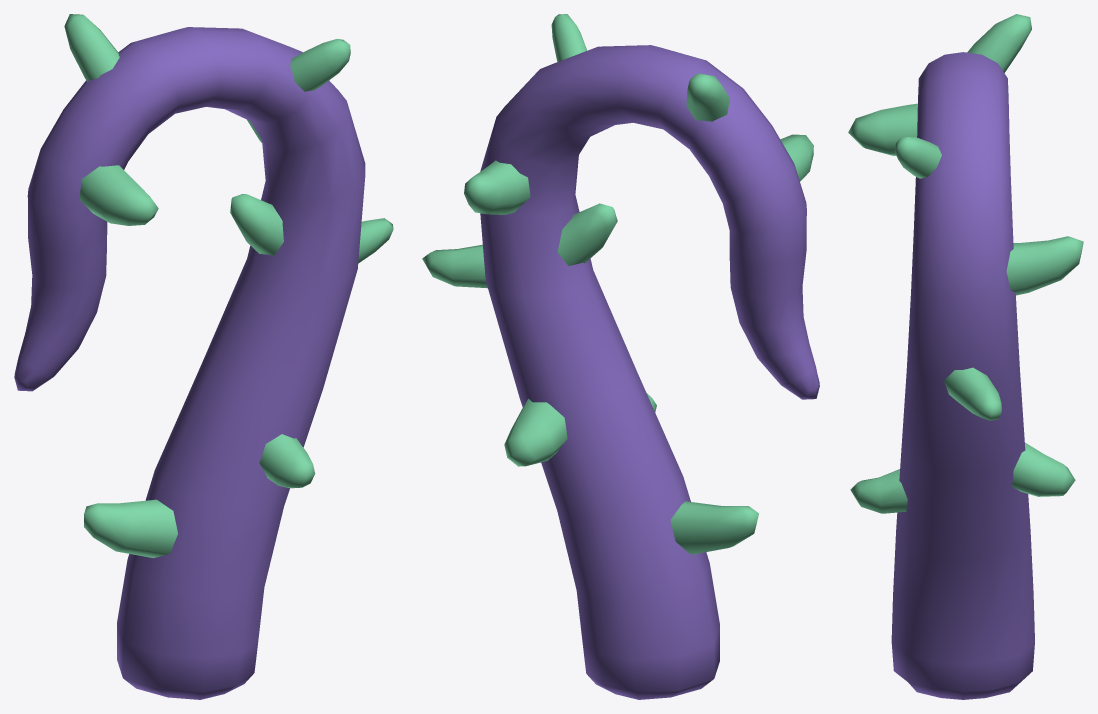
File: Vine_A_01.fbx
The picture shows the model from 3 angles, left to right: view 1: azimuth 30°, elevation 25°; view 2: azimuth 150°, elevation 25°; view 3: azimuth 270°, elevation 25°; orthographic projection. The views are drawn at different scales.
Visible parts, largest first — view 1: Vine_A_01_LOD0; view 2: Vine_A_01_LOD0; view 3: Vine_A_01_LOD0.
Part boxes in pixels (x1,y1,x2,y2): Vine_A_01_LOD0: (14, 14, 393, 699); Vine_A_01_LOD0: (422, 14, 819, 699); Vine_A_01_LOD0: (848, 14, 1083, 699).
Size of what is drawn, in the model's own units: 353 by 573 by 194.
